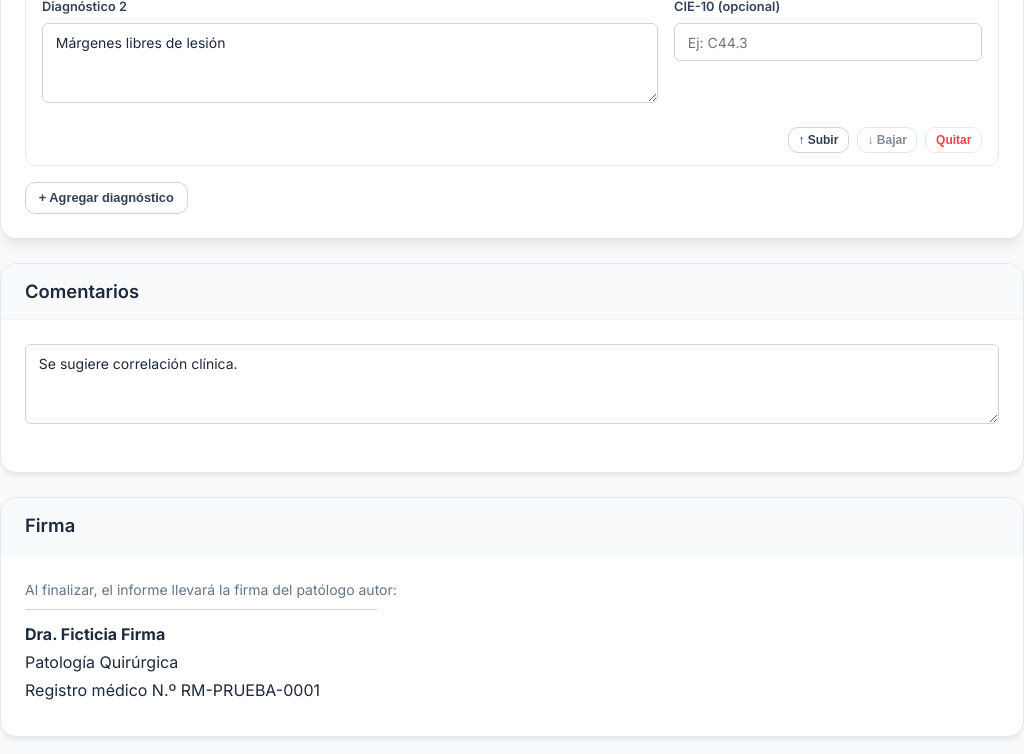
Test case: InformePage: no perder lo escrito (D-13) › autoguarda un borrador existente 5 segundos después del último cambio
This screenshot has width=1024, height=754.
(page scrolled)
Step 1. Replace the text in the text box showing "Se sugiere correlación clínica." with "Primer cambio" → (512, 384), box x1=25 y1=344 x2=999 y2=424
Wait 3000 ms
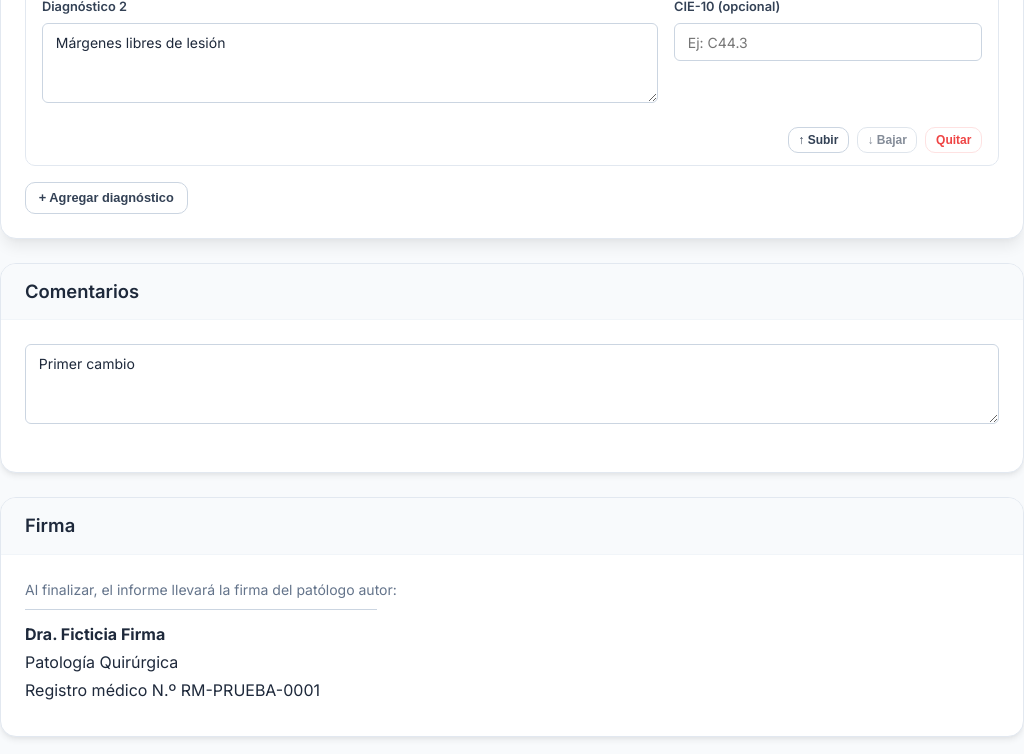
Step 2. Replace the text in the text box named "Comentarios" with "Segundo cambio" → (512, 384), box x1=25 y1=344 x2=999 y2=424
Wait 5000 ms
(page scrolled)
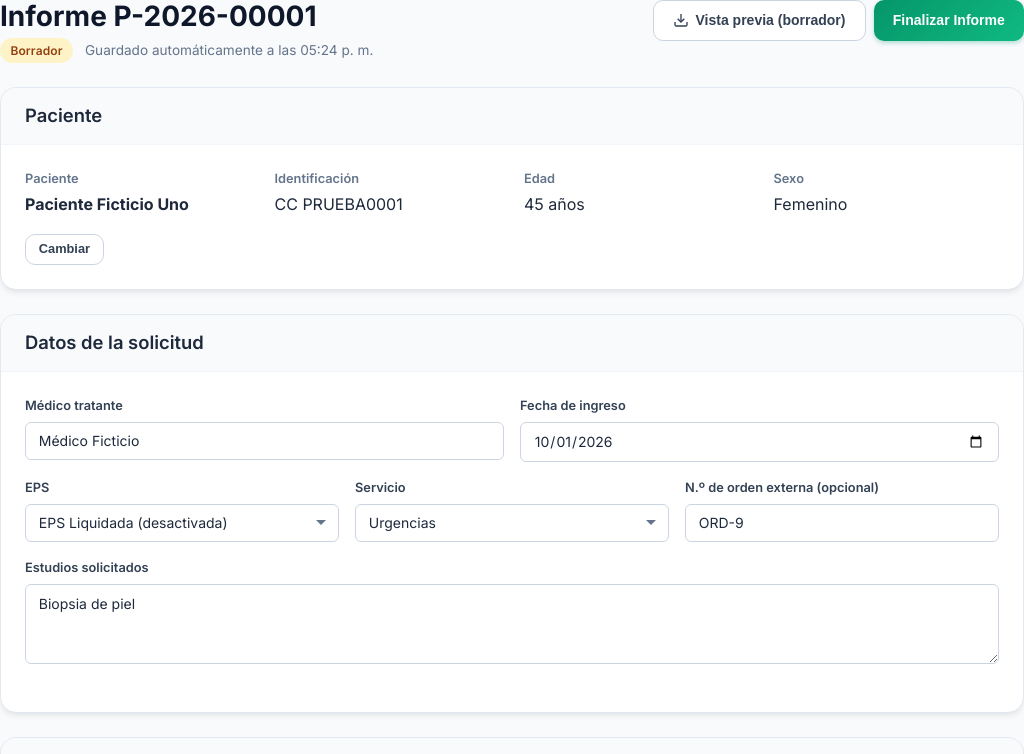
Now the text "Guardado automáticamente a las 05:24 p. m." is shown, box x1=85 y1=42 x2=373 y2=58
